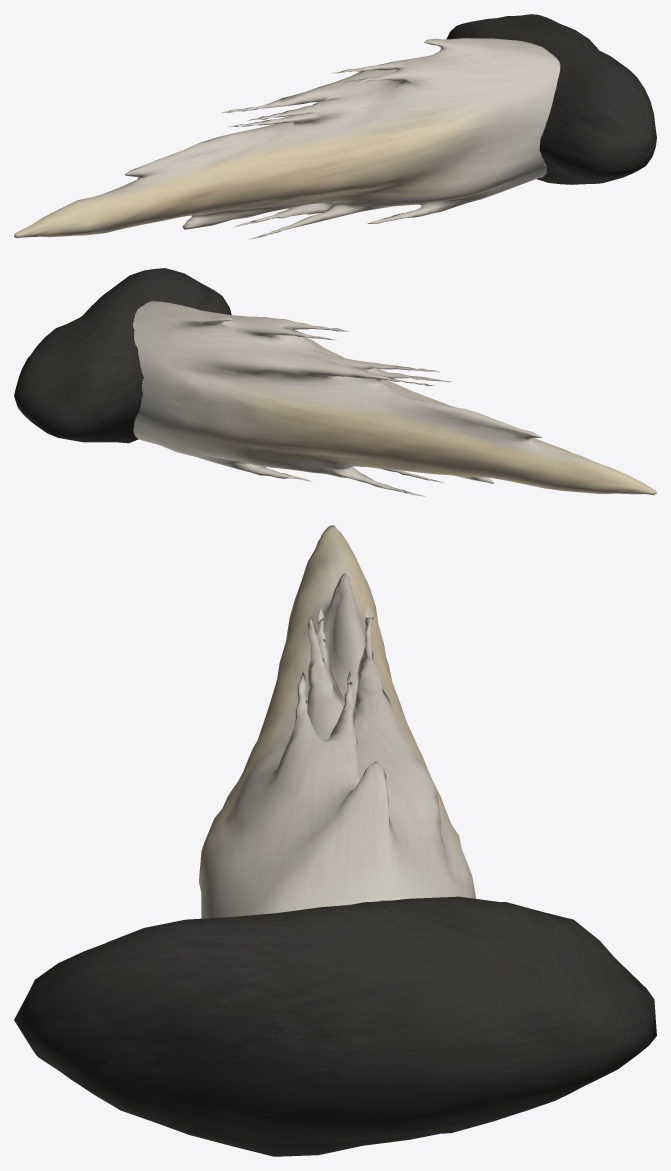
Rendered from comet-gold.glb.
The picture shows the model from 3 angles, top to bottom: view 1: azimuth 30°, elevation 25°; view 2: azimuth 150°, elevation 25°; view 3: azimuth 270°, elevation 25°; orthographic projection. The views are drawn at different scales.
Visible parts, largest first — view 1: Gold Dust Comet; view 2: Gold Dust Comet; view 3: Gold Dust Comet.
Boxes of the visible parts, x1,y1,x2,y2 form: Gold Dust Comet: (14, 14, 656, 239); Gold Dust Comet: (14, 268, 656, 496); Gold Dust Comet: (14, 525, 656, 1156).
Size of the model in its own units: 0.998 by 0.2402 by 0.4824.
1 material, 1 textured.
